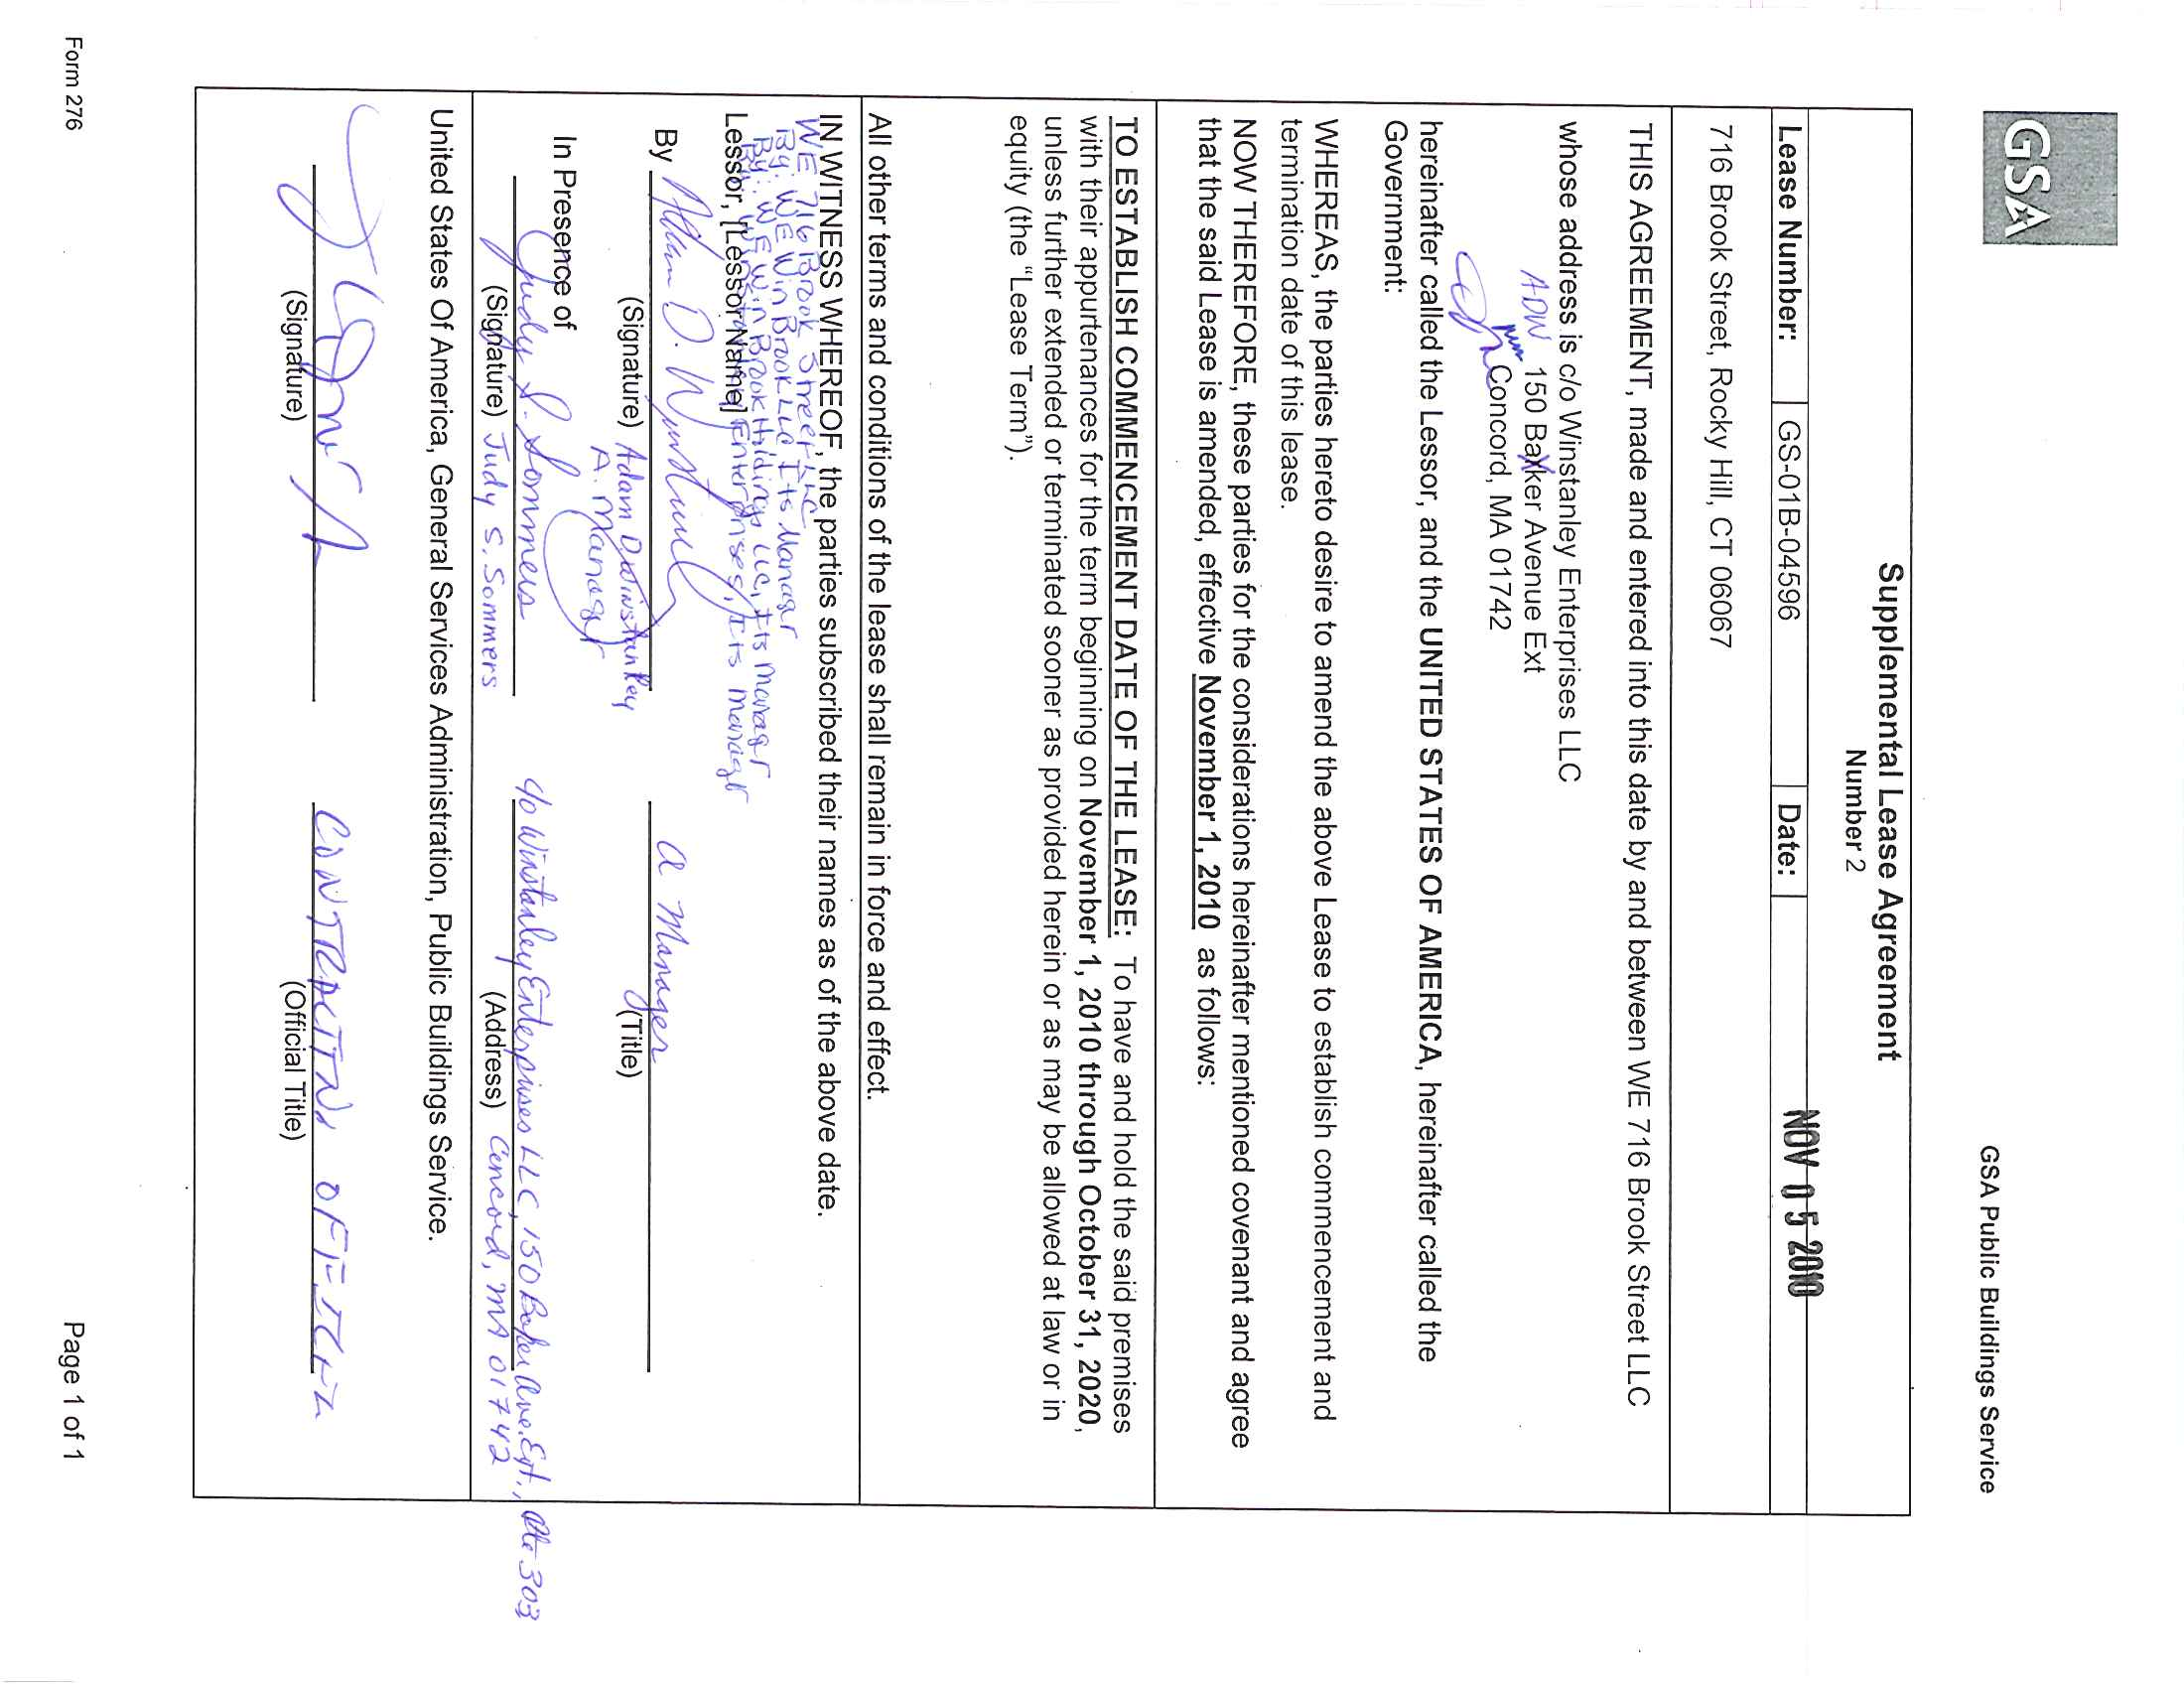handwritten: (578, 452, 794, 734), (511, 773, 574, 1629), (737, 106, 807, 823), (305, 89, 390, 560), (308, 807, 365, 1429), (656, 163, 707, 686), (518, 213, 553, 624), (640, 826, 695, 1071), (477, 1126, 509, 1470), (1447, 238, 1537, 355), (477, 426, 511, 699)
